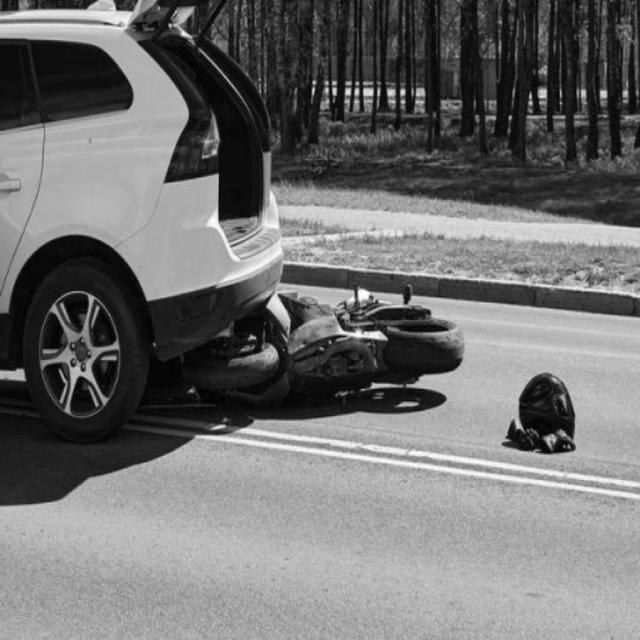accident: (6, 17, 470, 445)
